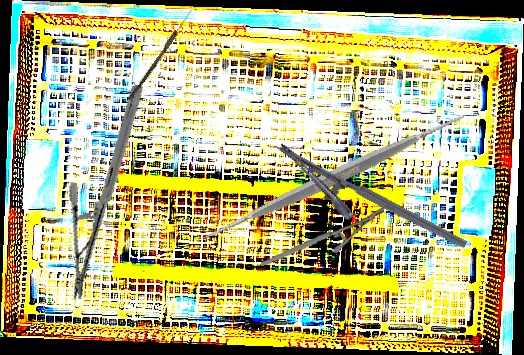Needle Holder: (27, 83, 187, 302), (264, 141, 468, 276), (257, 206, 388, 267)
Spatula Surgical: (185, 29, 481, 325)
Surgical Spoon: (128, 7, 194, 102)
